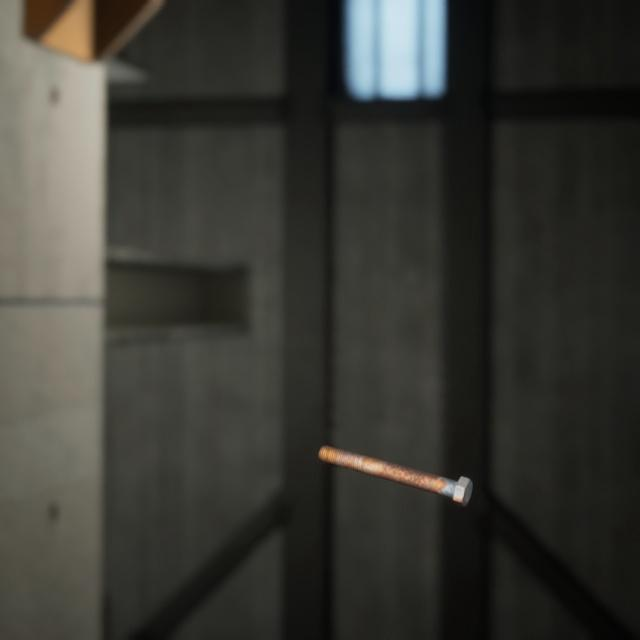bolt: (314, 421, 477, 491)
